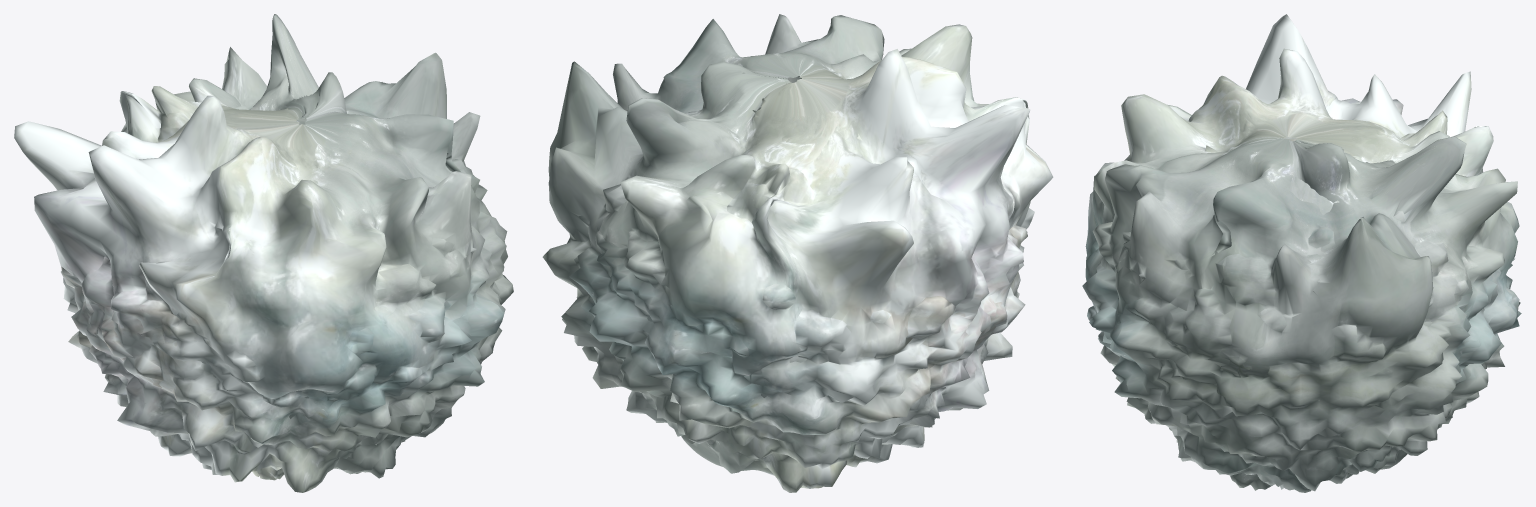
Rendered from VivianHailModel.glb.
The picture shows the model from 3 angles, left to right: view 1: azimuth 30°, elevation 25°; view 2: azimuth 150°, elevation 25°; view 3: azimuth 270°, elevation 25°; orthographic projection. The views are drawn at different scales.
Parts seen in each view (by area): view 1: SculptedHail; view 2: SculptedHail; view 3: SculptedHail.
Boxes of the visible parts, x1,y1,x2,y2 form: SculptedHail: [14, 14, 513, 492]; SculptedHail: [542, 14, 1053, 492]; SculptedHail: [1082, 14, 1521, 492].
Size of the model in its own units: 0.1842 by 0.175 by 0.1788.
Materials: 1 (1 with a texture image).
